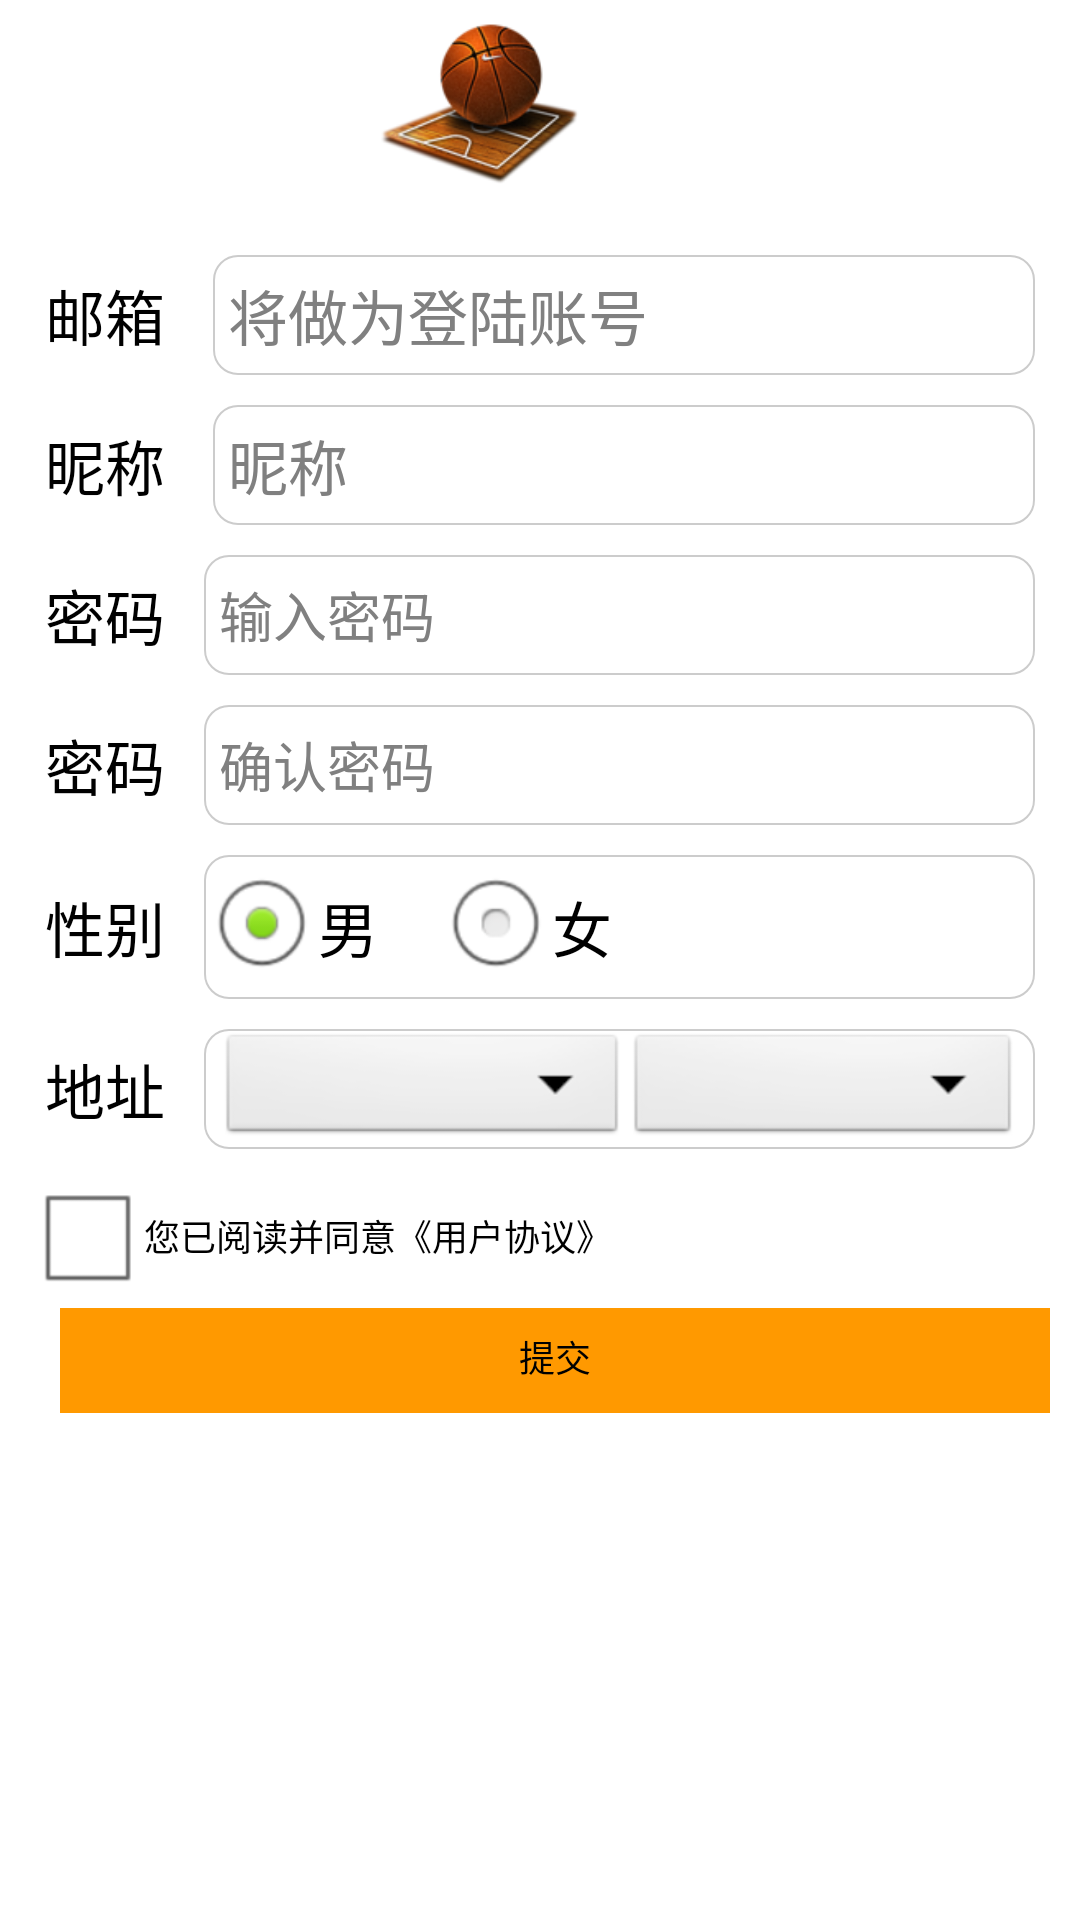

Icons on this 1080 × 1920 Android screen, each with the point to tap as point (x, y):
ball: point (480, 103)
